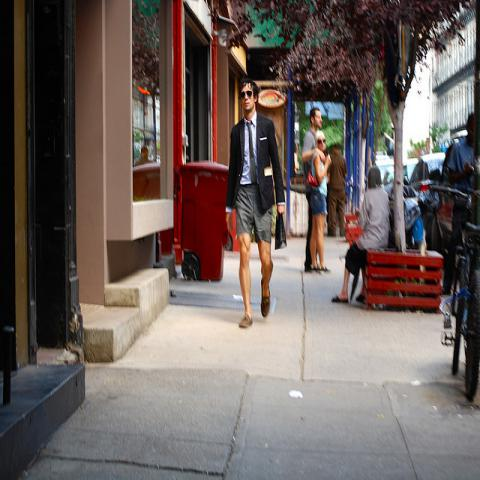car: (427, 138, 480, 268), (409, 156, 445, 192), (374, 159, 395, 185), (404, 157, 418, 182)
